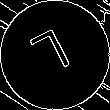L_SE: (30, 25, 80, 85)
